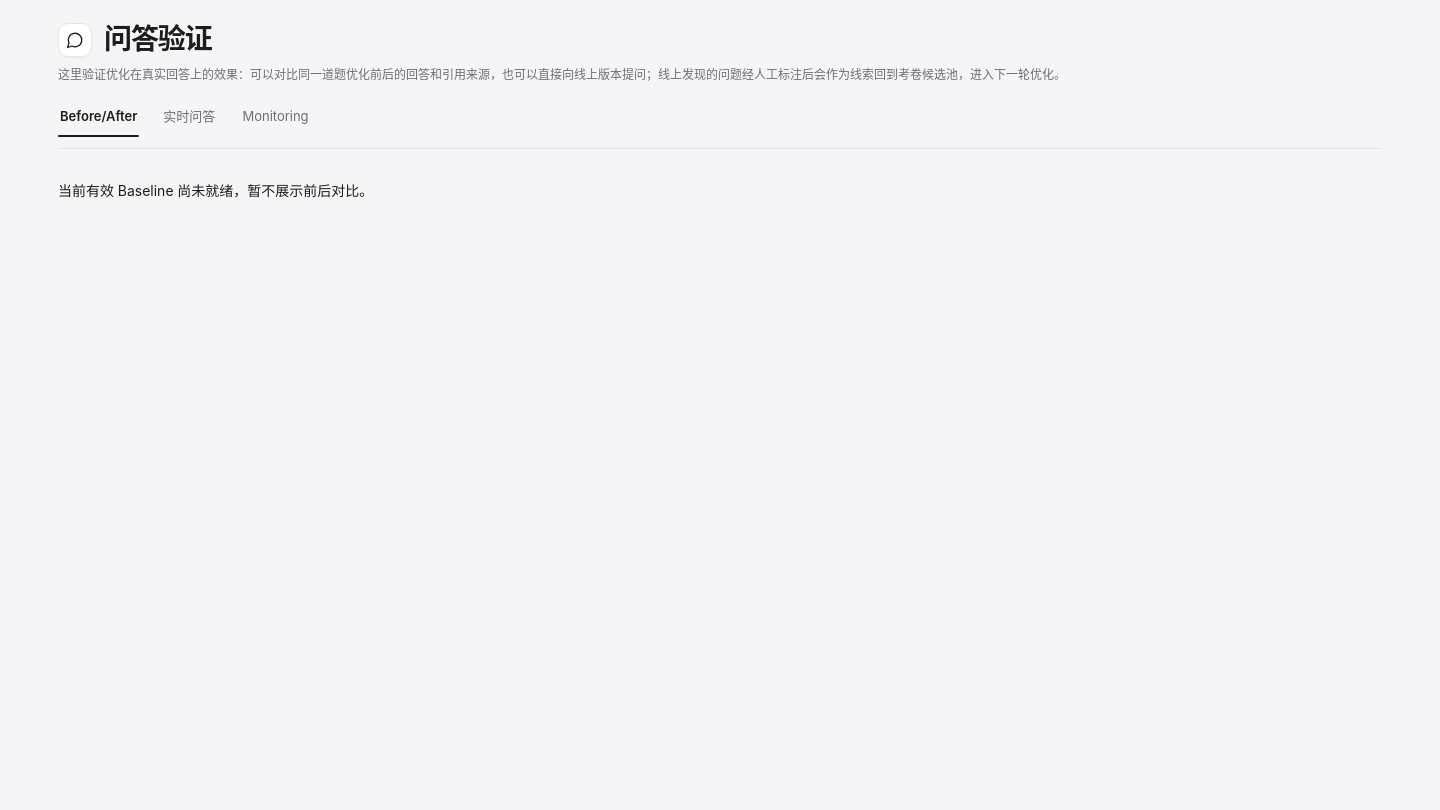
Test: opens feedback details when clicking the truncated question inside its action button
Click the button "Monitoring" at (276,116), box [239,96,312,136]
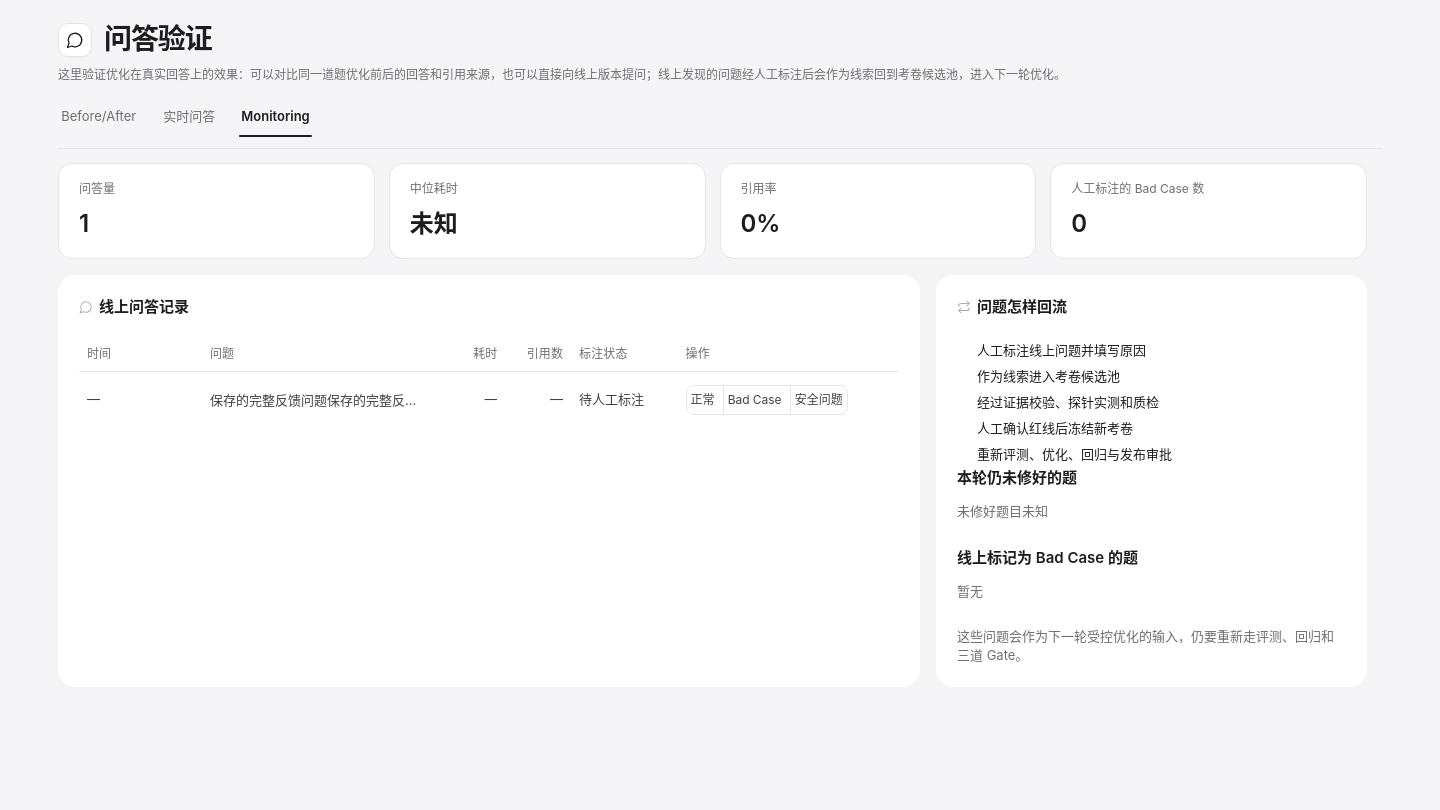
Click the 4th button at (317,400), box [210,387,424,413]
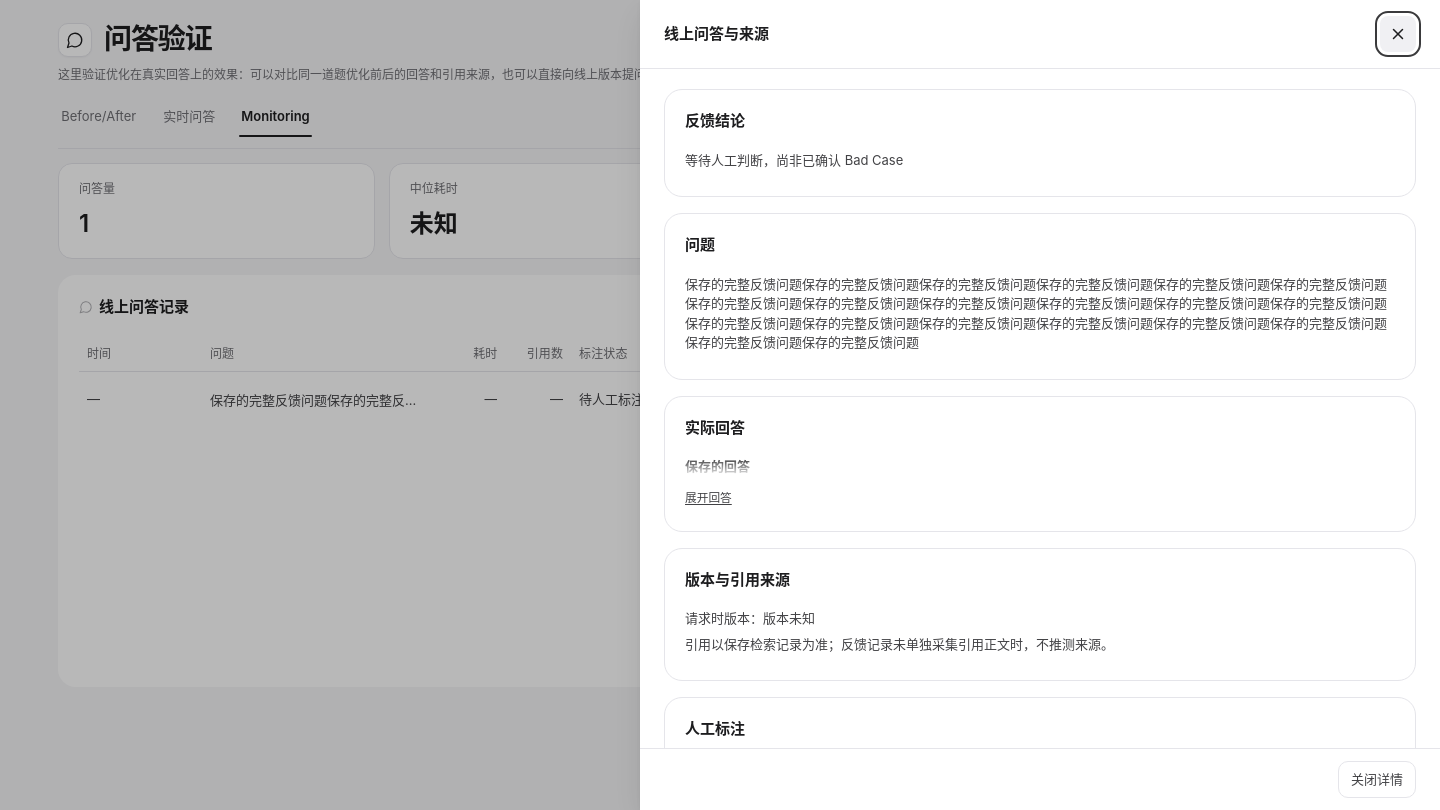
expect the dialog shows "保存的回答": met, box [685,458,750,474]
